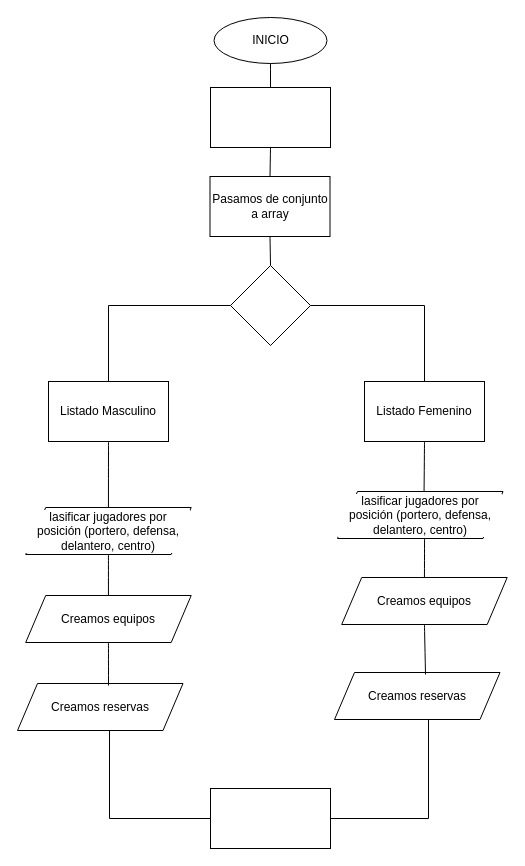
Some shapes in this 525 by 866 pixel diagram are drawn without their labels. The shapes that lost their labels are listed below. From the top down, each one's box as (x1, y1, x2, y2) in pixels, then its label:
(210, 86, 330, 148): Eliminamos duplicados creando conjutno
(230, 264, 310, 346): Dividir por M/F
(210, 788, 330, 848): Mostrar resultados
